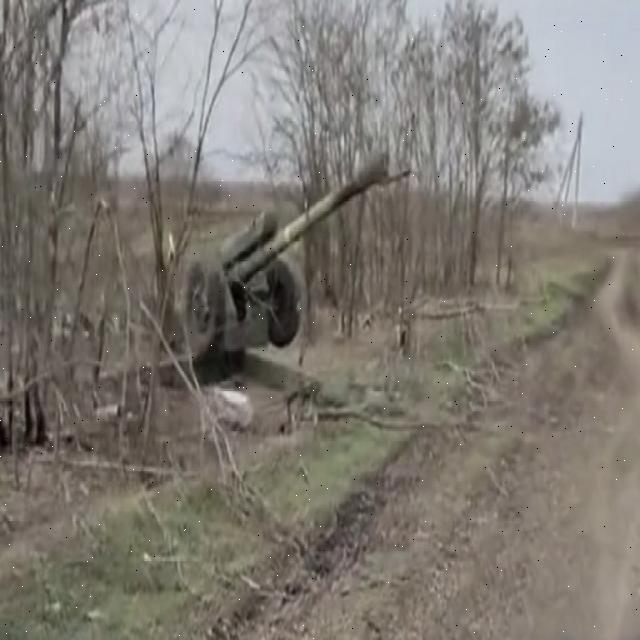ART: (178, 140, 412, 393)
